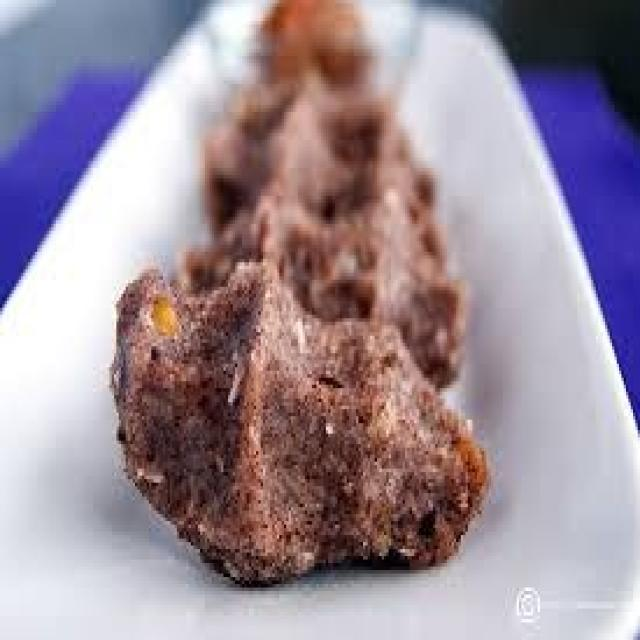pidi kolukattai: (101, 83, 503, 593)
